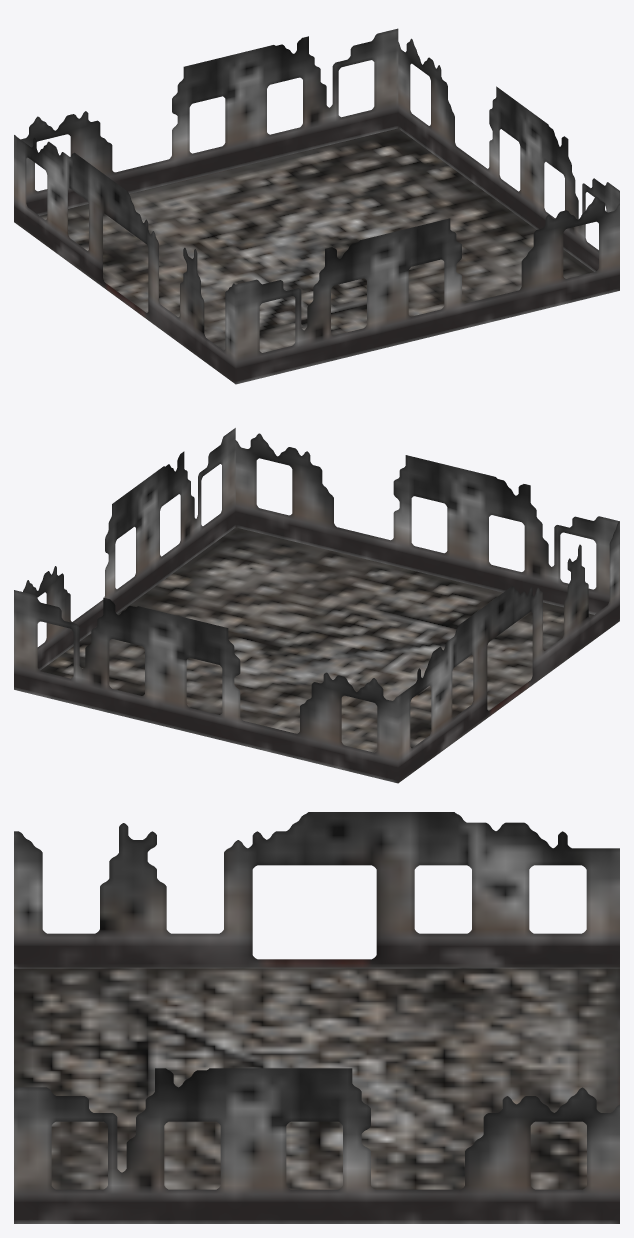
Rendered from city2storyb_dam.glb.
3 renders of one model, top to bottom at view 1: azimuth 30°, elevation 25°; view 2: azimuth 150°, elevation 25°; view 3: azimuth 270°, elevation 25°, orthographic. The views are drawn at different scales.
Visible parts, largest first — view 1: City2StoryA; view 2: City2StoryA; view 3: City2StoryA.
Part boxes in pixels (bbox=[...]): City2StoryA: bbox=[14, 28, 619, 384]; City2StoryA: bbox=[14, 428, 619, 783]; City2StoryA: bbox=[14, 812, 619, 1223].
Size of the model in its own units: 17.76 by 5.03 by 17.76.
1 material, 1 textured.
